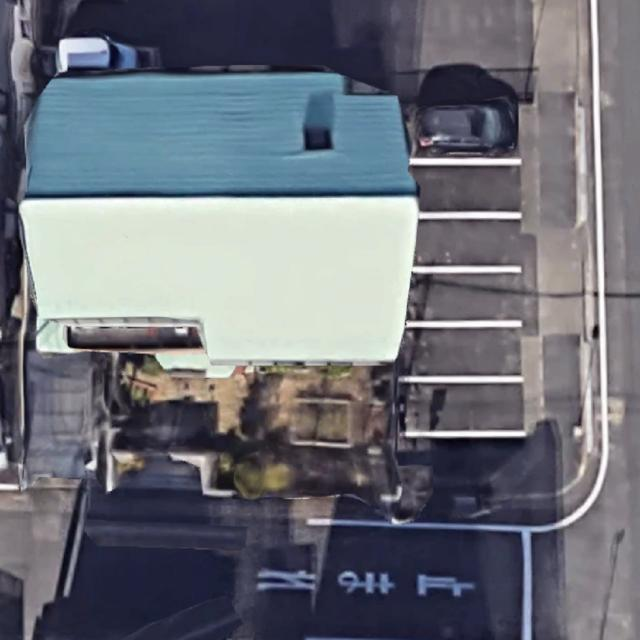Batiment: (20, 73, 419, 376)
